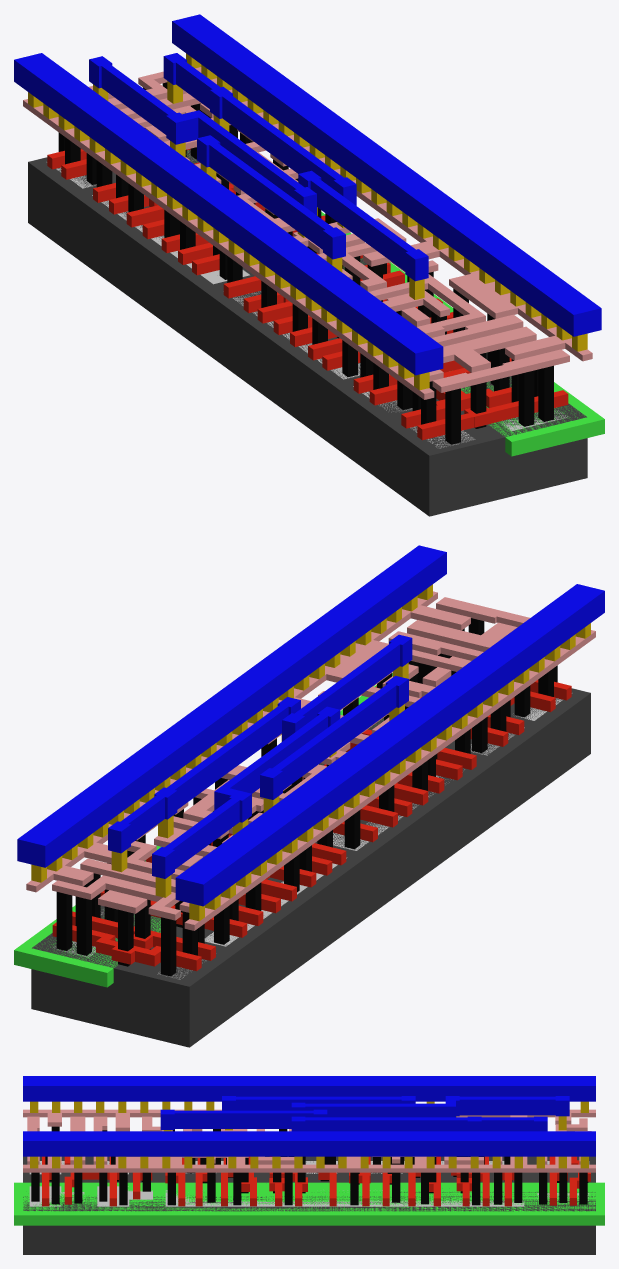
The model's file is sky130_fd_sc_hd__dfbbn_1.obj.
3 views of the same model, one above another, from view 1: azimuth 30°, elevation 25°; view 2: azimuth 150°, elevation 25°; view 3: azimuth 270°, elevation 25° (orthographic). The views are drawn at different scales.
Visible parts, largest first — view 1: metal1, subs, li, poly, licon, mcon, nwell, diff; view 2: metal1, subs, li, licon, poly, mcon, nwell, diff; view 3: metal1, subs, nwell, li, poly, licon, mcon, tap, diff.
Part boxes in pixels (x1,y1,x2,y2): metal1: [14, 14, 601, 375]; subs: [28, 149, 587, 516]; li: [23, 67, 592, 399]; poly: [47, 148, 568, 440]; licon: [58, 82, 553, 444]; mcon: [28, 53, 587, 390]; nwell: [187, 150, 604, 456]; diff: [46, 162, 475, 448]; metal1: [17, 545, 604, 906]; subs: [31, 688, 590, 1047]; li: [26, 591, 595, 930]; licon: [56, 618, 557, 976]; poly: [52, 680, 571, 971]; mcon: [31, 584, 590, 921]; nwell: [14, 673, 392, 987]; diff: [157, 693, 572, 979]; metal1: [23, 1076, 595, 1156]; subs: [23, 1156, 595, 1254]; nwell: [14, 1182, 604, 1225]; li: [23, 1109, 595, 1172]; poly: [41, 1156, 590, 1206]; licon: [31, 1126, 588, 1205]; mcon: [30, 1101, 588, 1168]; tap: [29, 1186, 589, 1206]; diff: [29, 1161, 589, 1174].
Bounding box in the file's own units: 3.2 × 2.74 × 12.34.
